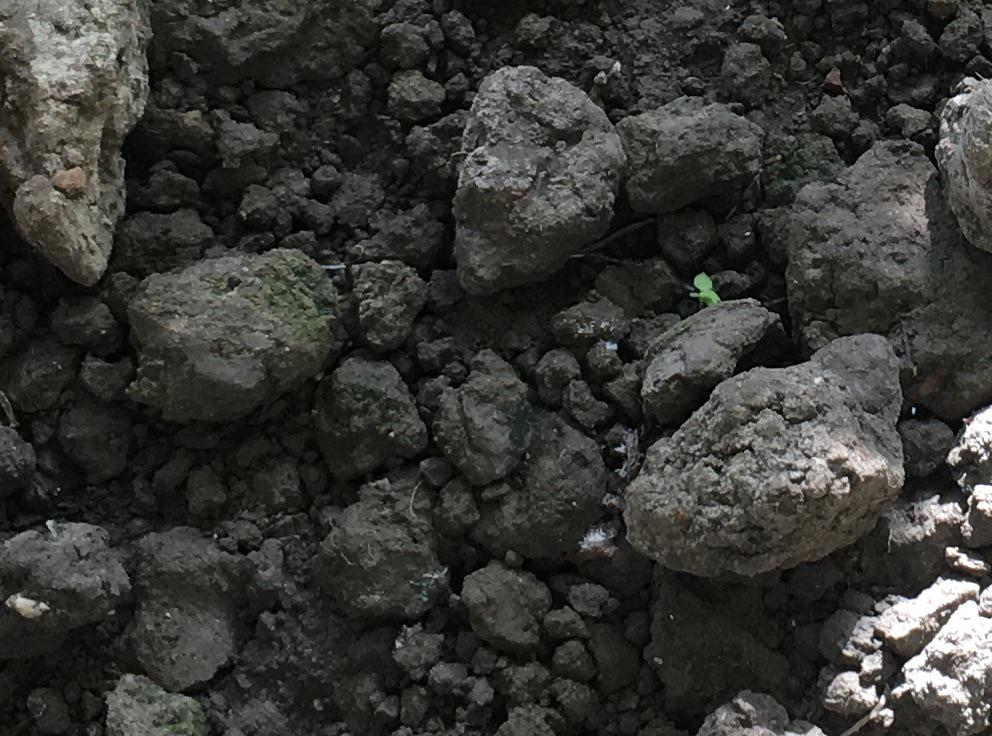block: (623, 334, 905, 569), (1, 1, 148, 284), (117, 250, 348, 417), (452, 69, 614, 295), (2, 522, 131, 665), (620, 95, 763, 218)
